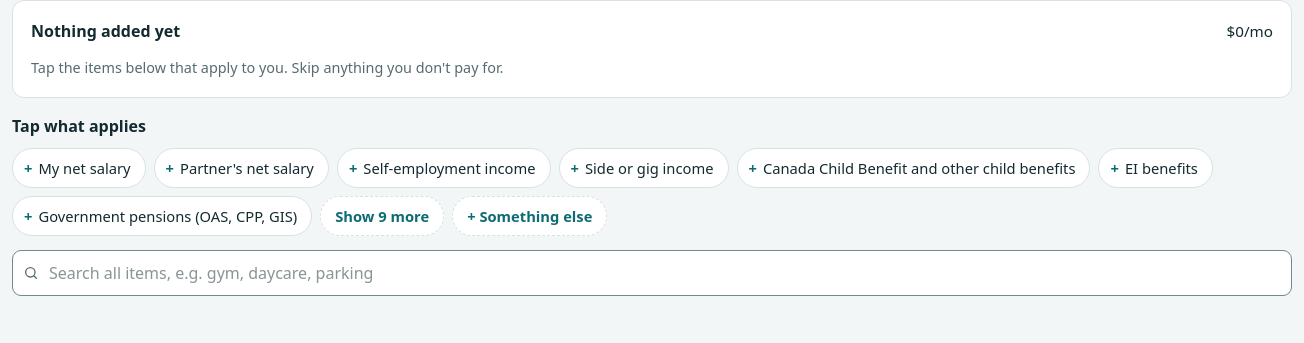
BucketStep › picking a chip adds its row and focuses the amount
Click the button with aria-label "Add My net salary" at coordinates (79, 168), box [12,148,146,188]
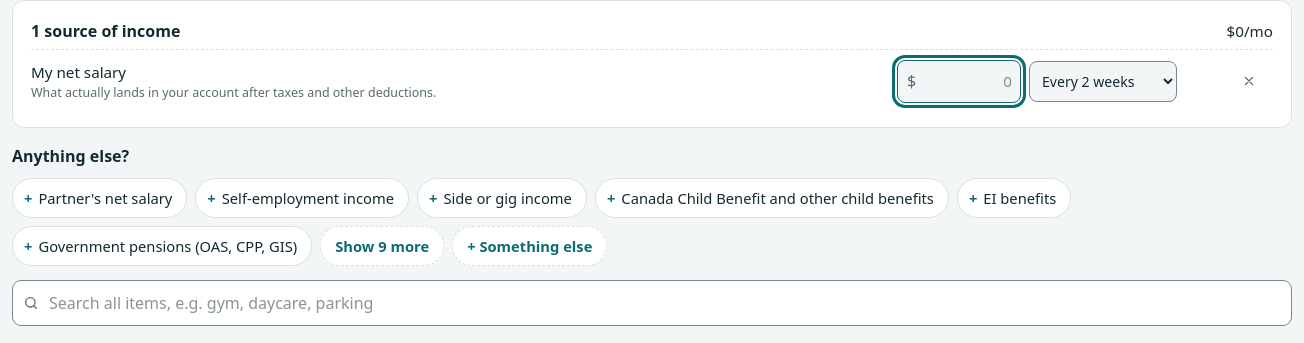
Result: the field named "My net salary amount" is empty at [897,60,1021,103]
Result: the dropdown named "My net salary frequency" shows "Every 2 weeks" at [1029,61,1177,102]
Result: the heading "1 source of income" is shown at [31,19,180,43]
